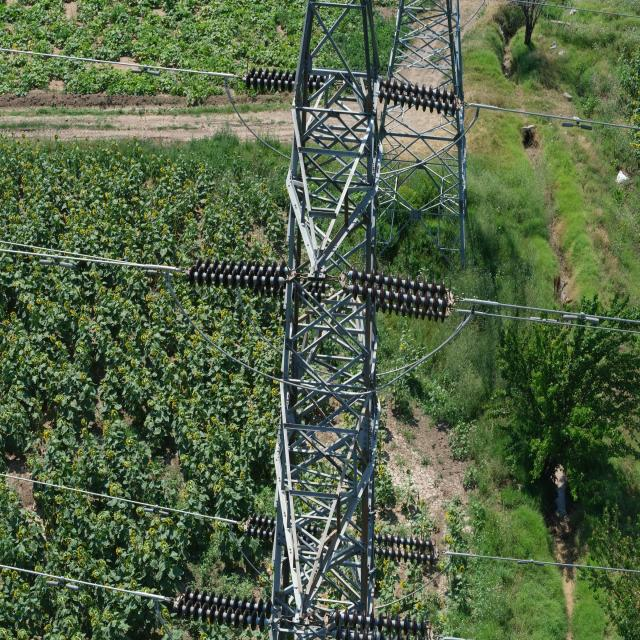voltage_line: (221, 6, 427, 640), (373, 0, 468, 263)
